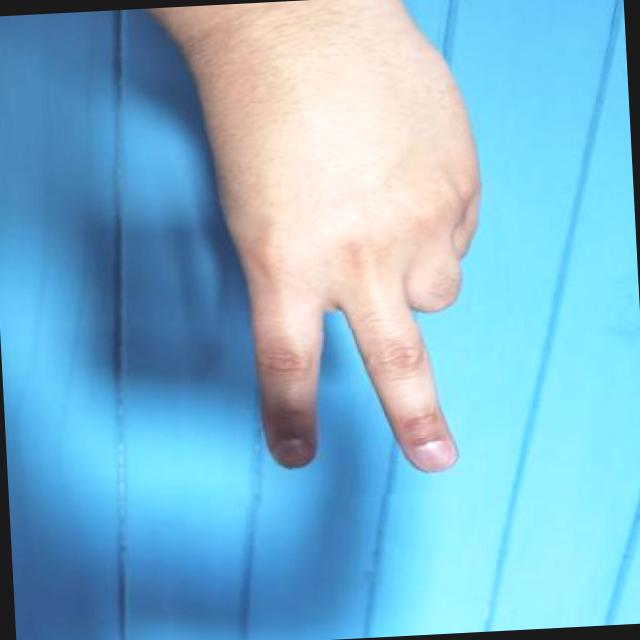N: (143, 0, 533, 514)
